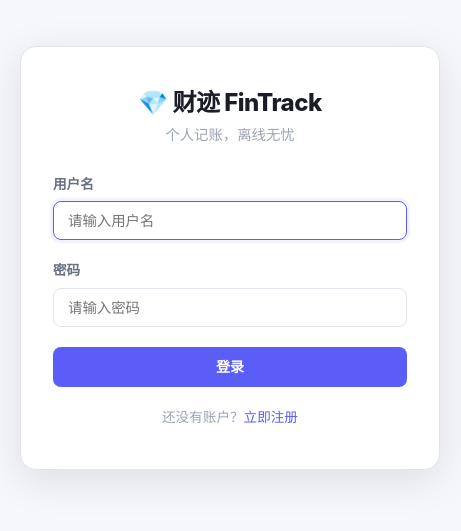
it: Login Page › shows error when password empty
Type "testuser" into the field with placeholder "请输入用户名". click: [230, 221]
box: [53,201,407,240]
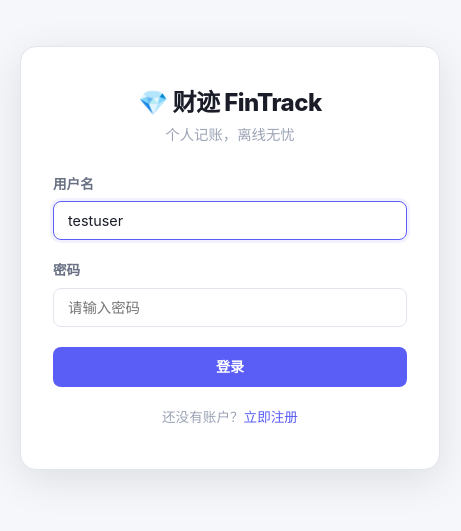
Click the button "登录". click: [230, 367]
box: [53,347,407,387]
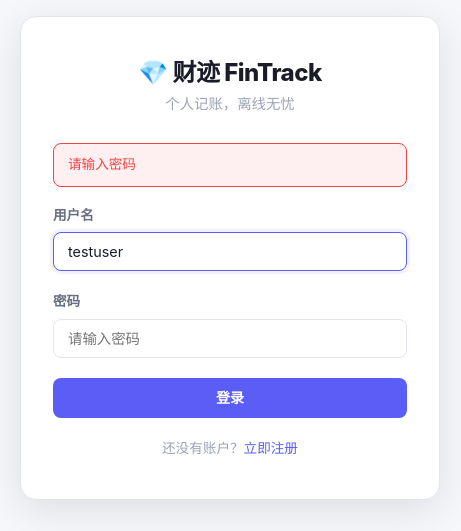
Result: the text "请输入密码" is shown at [53,143,407,187]
